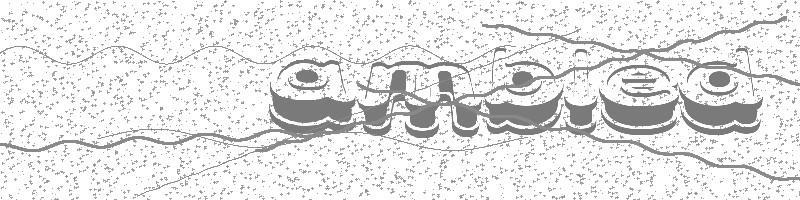a: (267, 58, 356, 134)
b: (483, 47, 563, 136)
d: (683, 47, 762, 136)
e: (598, 63, 681, 137)
l: (564, 48, 599, 136)
m: (356, 60, 482, 139)
